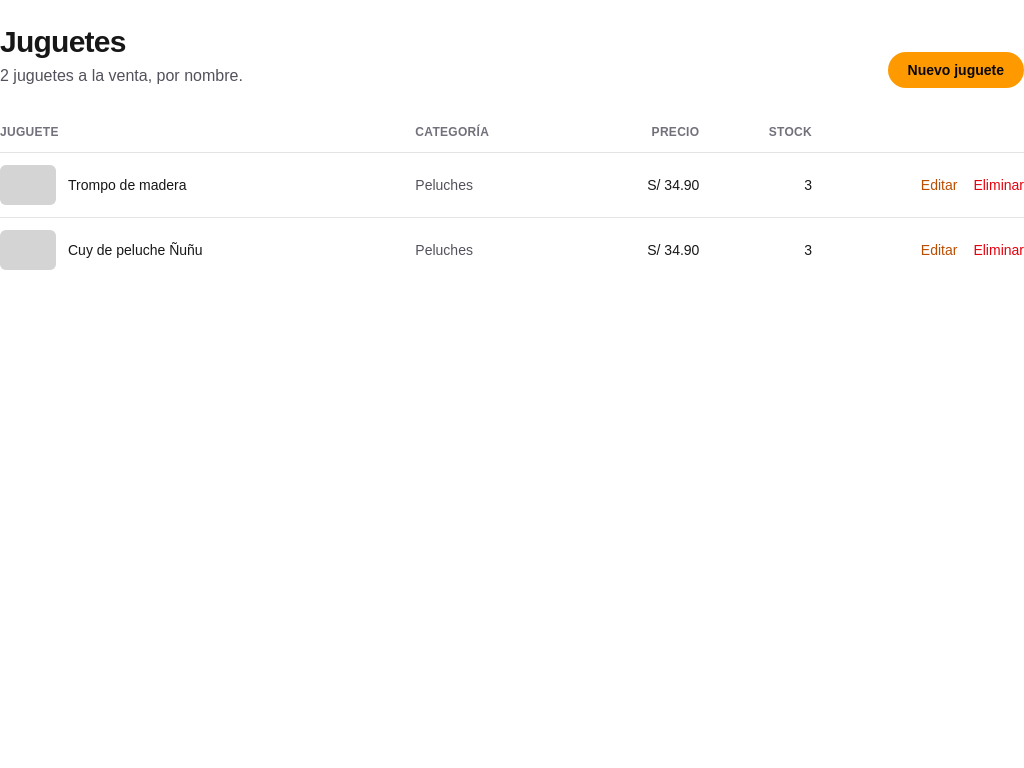
Test case: VistaAdminJuguetes: eliminar (HU-20) › al confirmar envía DELETE /juguetes/:id y quita la fila
Click the button with aria-label "Eliminar Cuy de peluche Ñuñu": (999, 250) x1=973 y1=240 x2=1023 y2=260
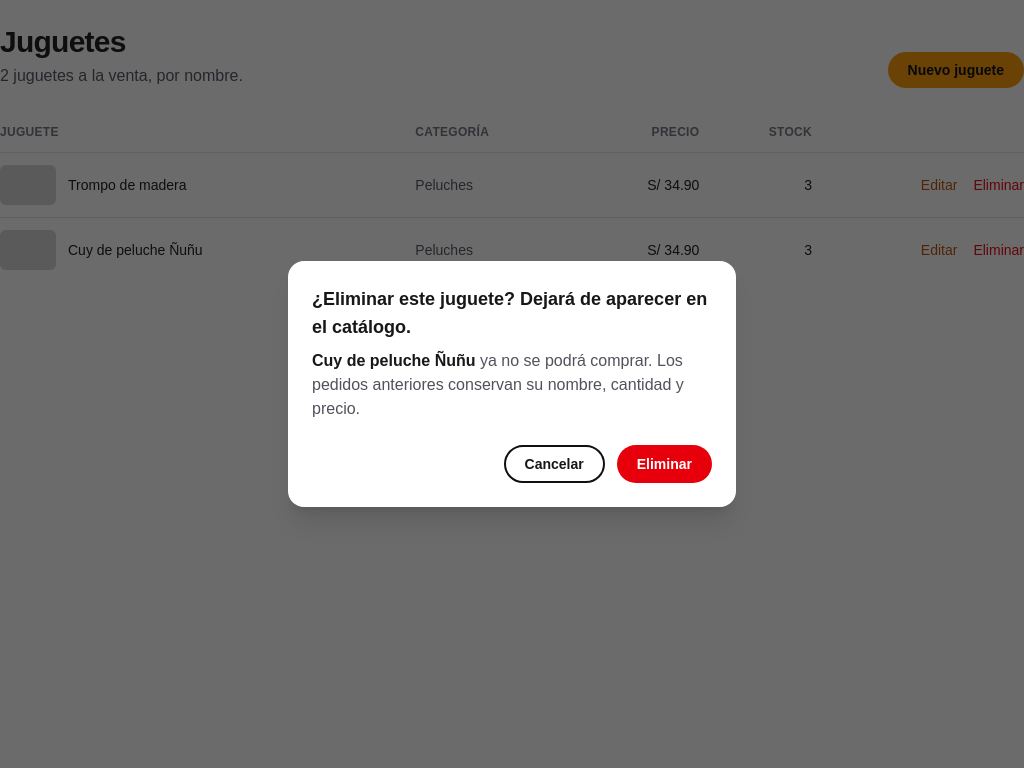
Click the button "Eliminar": (664, 464) x1=617 y1=445 x2=712 y2=483
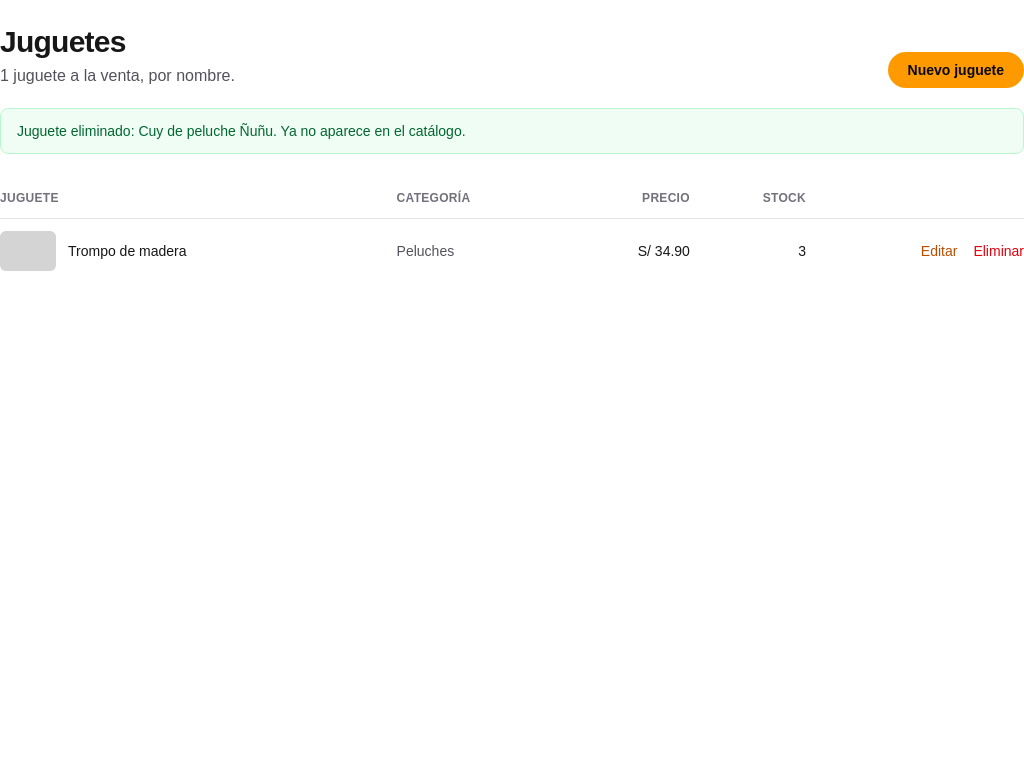
Check: the text "Trompo de madera" is shown, box x1=68 y1=243 x2=186 y2=259
Check: the text "Juguete eliminado: Cuy de peluche Ñuñu. Ya no aparece en el catálogo." is shown, box x1=0 y1=108 x2=1023 y2=154
